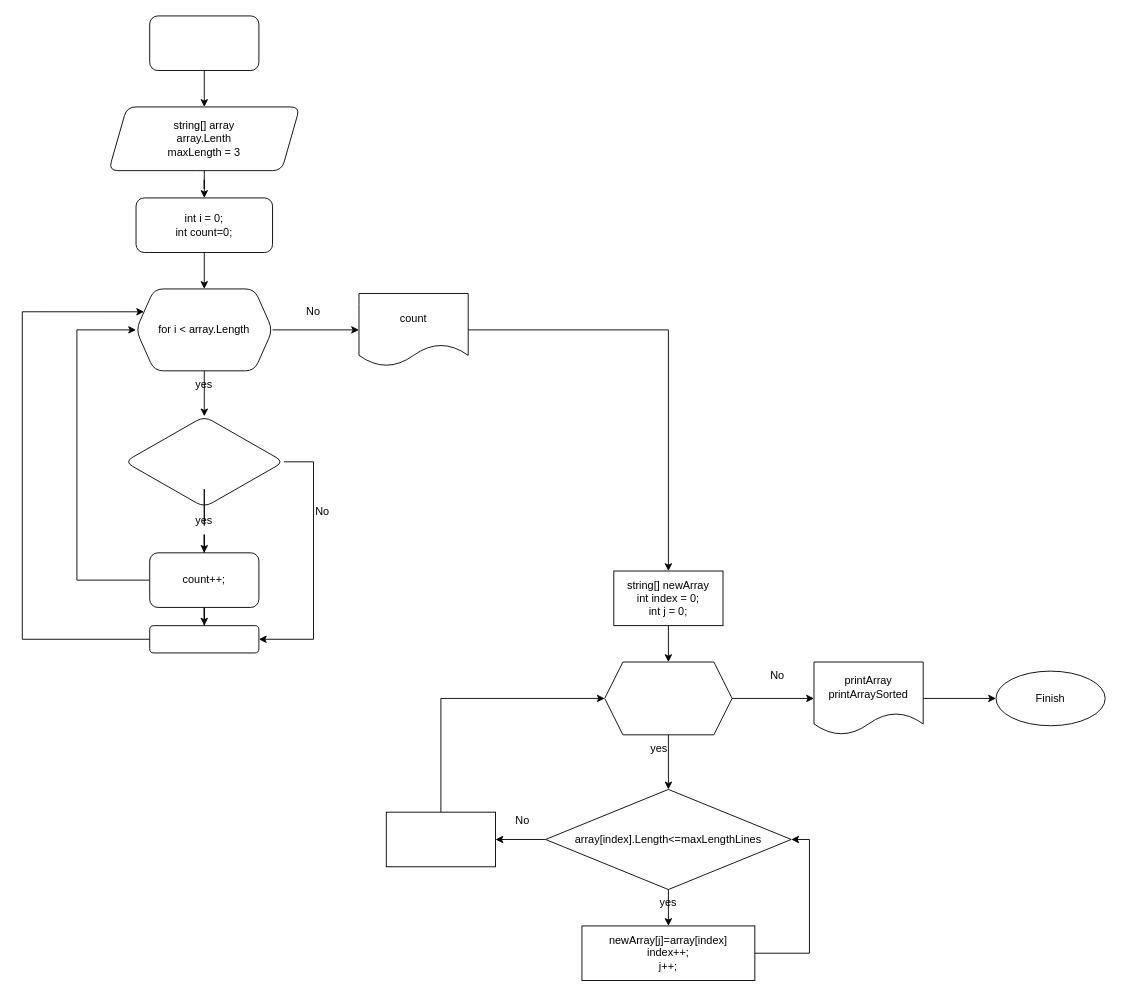
The diagram is 1121 pixels wide and 996 high, and some of its shapes have lost their labels. The centre of each missing label's shape, as x and y in pixels:
"i++;" belongs at point (204, 639).
"if array[i]<=maxLenghtLines" belongs at point (204, 461).
"index < array.Length" belongs at point (668, 698).
"index++;" belongs at point (440, 839).
"Start" belongs at point (204, 43).
